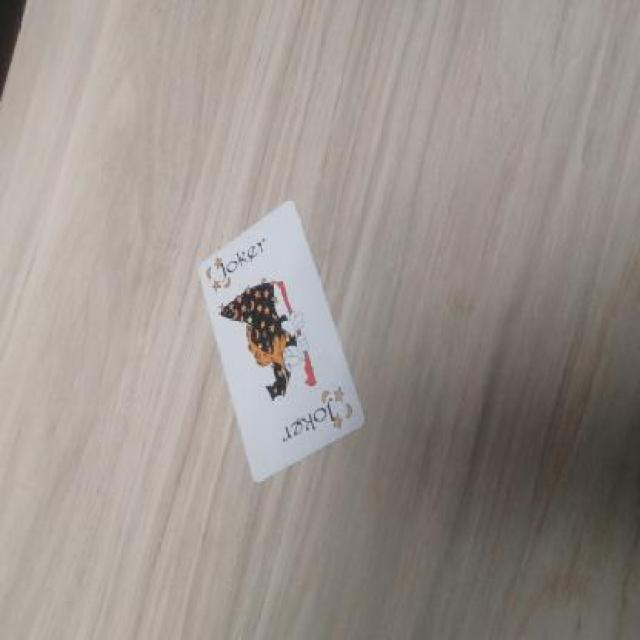BLACK JOKER: (272, 385, 356, 467), (200, 228, 268, 303)
